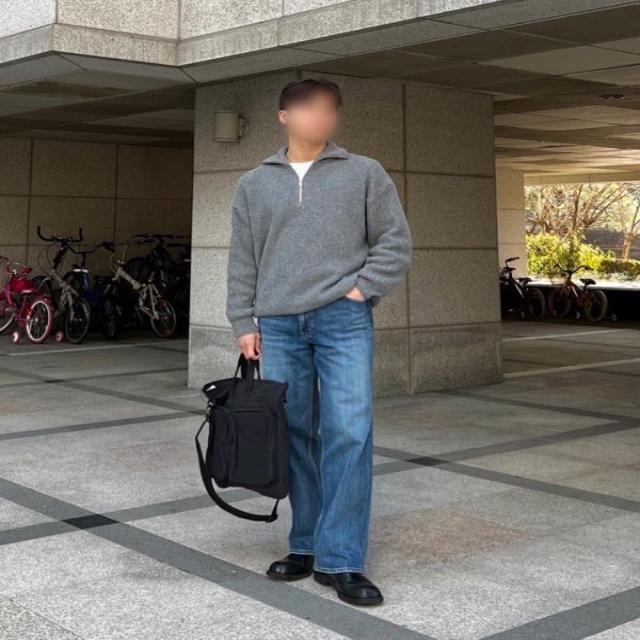denimpants: (262, 299, 380, 577)
sweater: (224, 145, 410, 338)
